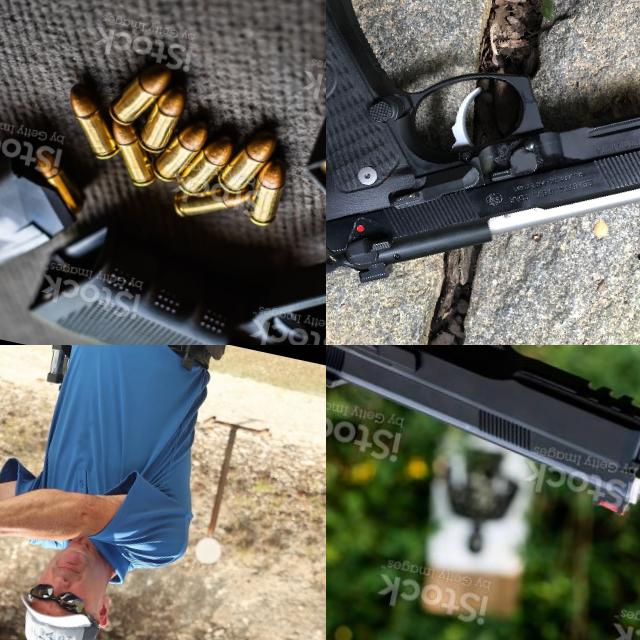handgun: (326, 0, 640, 345), (326, 345, 640, 580), (16, 153, 326, 345), (0, 476, 59, 578)
